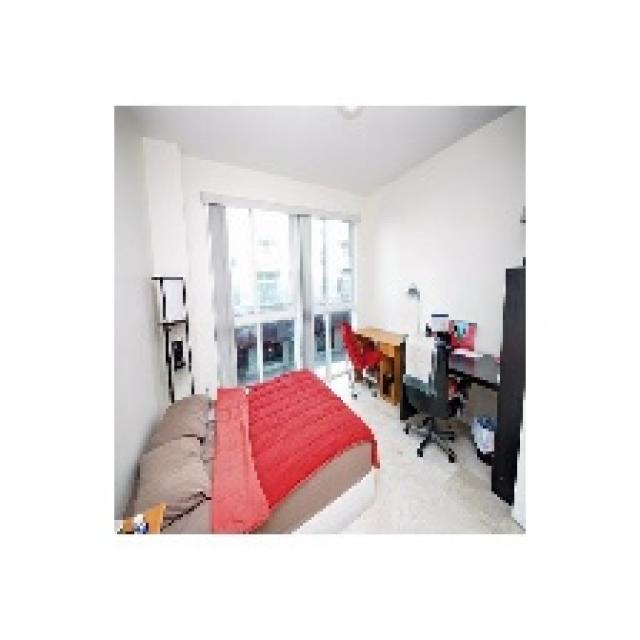Bed: (120, 366, 380, 534)
